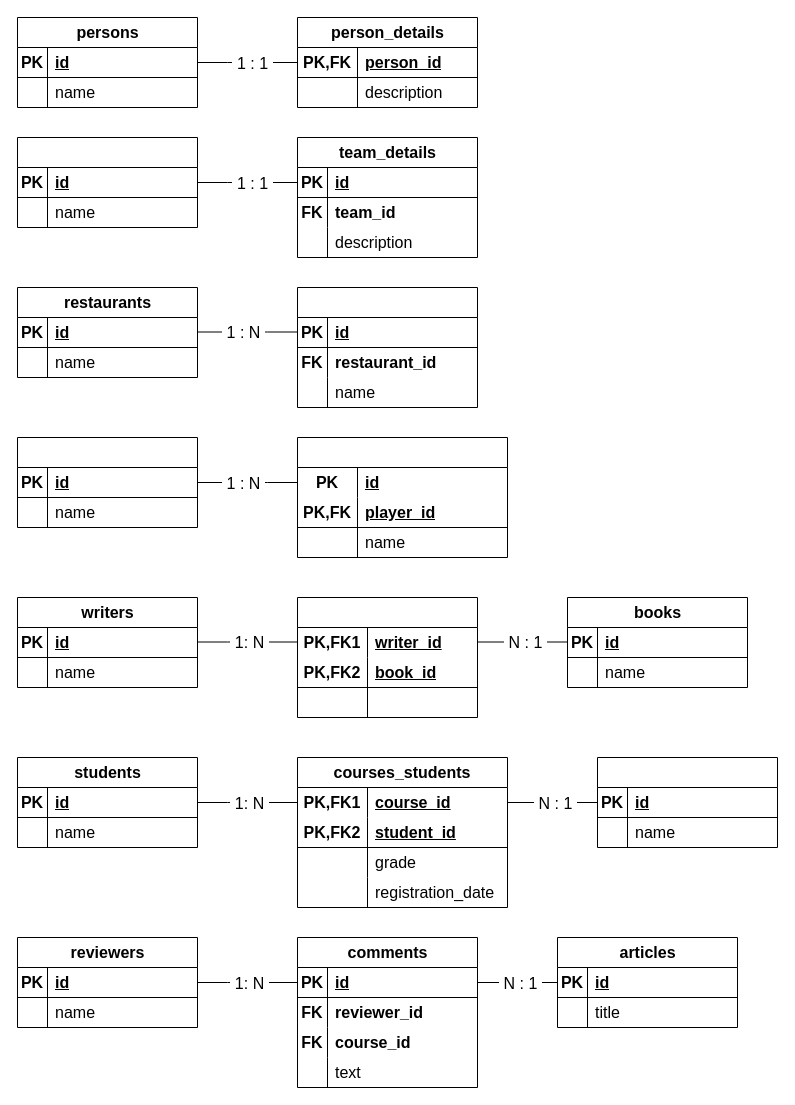
This 795x1105 diagram has some shape labels left out. Each missing label, with the box of its shape:
courses: (596, 756, 778, 848)
dishes: (296, 286, 478, 408)
players: (16, 436, 198, 528)
teams: (16, 136, 198, 228)
weapons: (296, 436, 508, 558)
writers_books: (296, 596, 478, 718)
